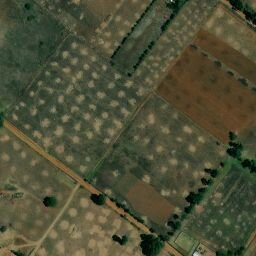tree: (41, 195, 56, 206), (94, 192, 104, 204), (210, 168, 220, 178), (120, 234, 128, 245), (174, 221, 181, 230), (207, 179, 214, 186), (181, 213, 188, 220), (1, 225, 6, 232)
